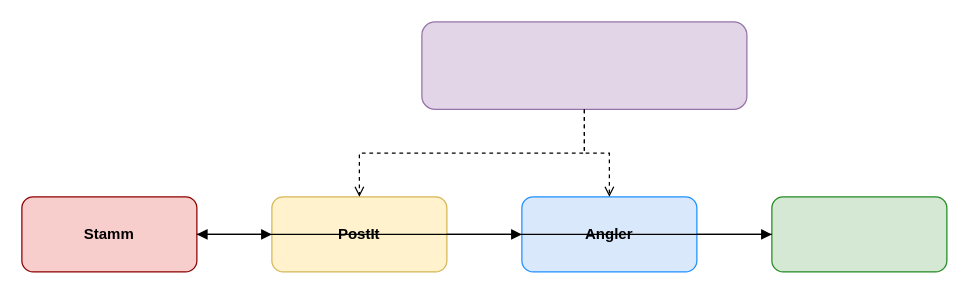
The diagram is 969 pixels wide and 294 high, and some of its shapes have lost their labels. Each missing label, with the centre of its shape:
"TopLab" goes at (x=859, y=234).
"Wortraum (Netz/Knoten/Zweig)" goes at (x=584, y=65).
